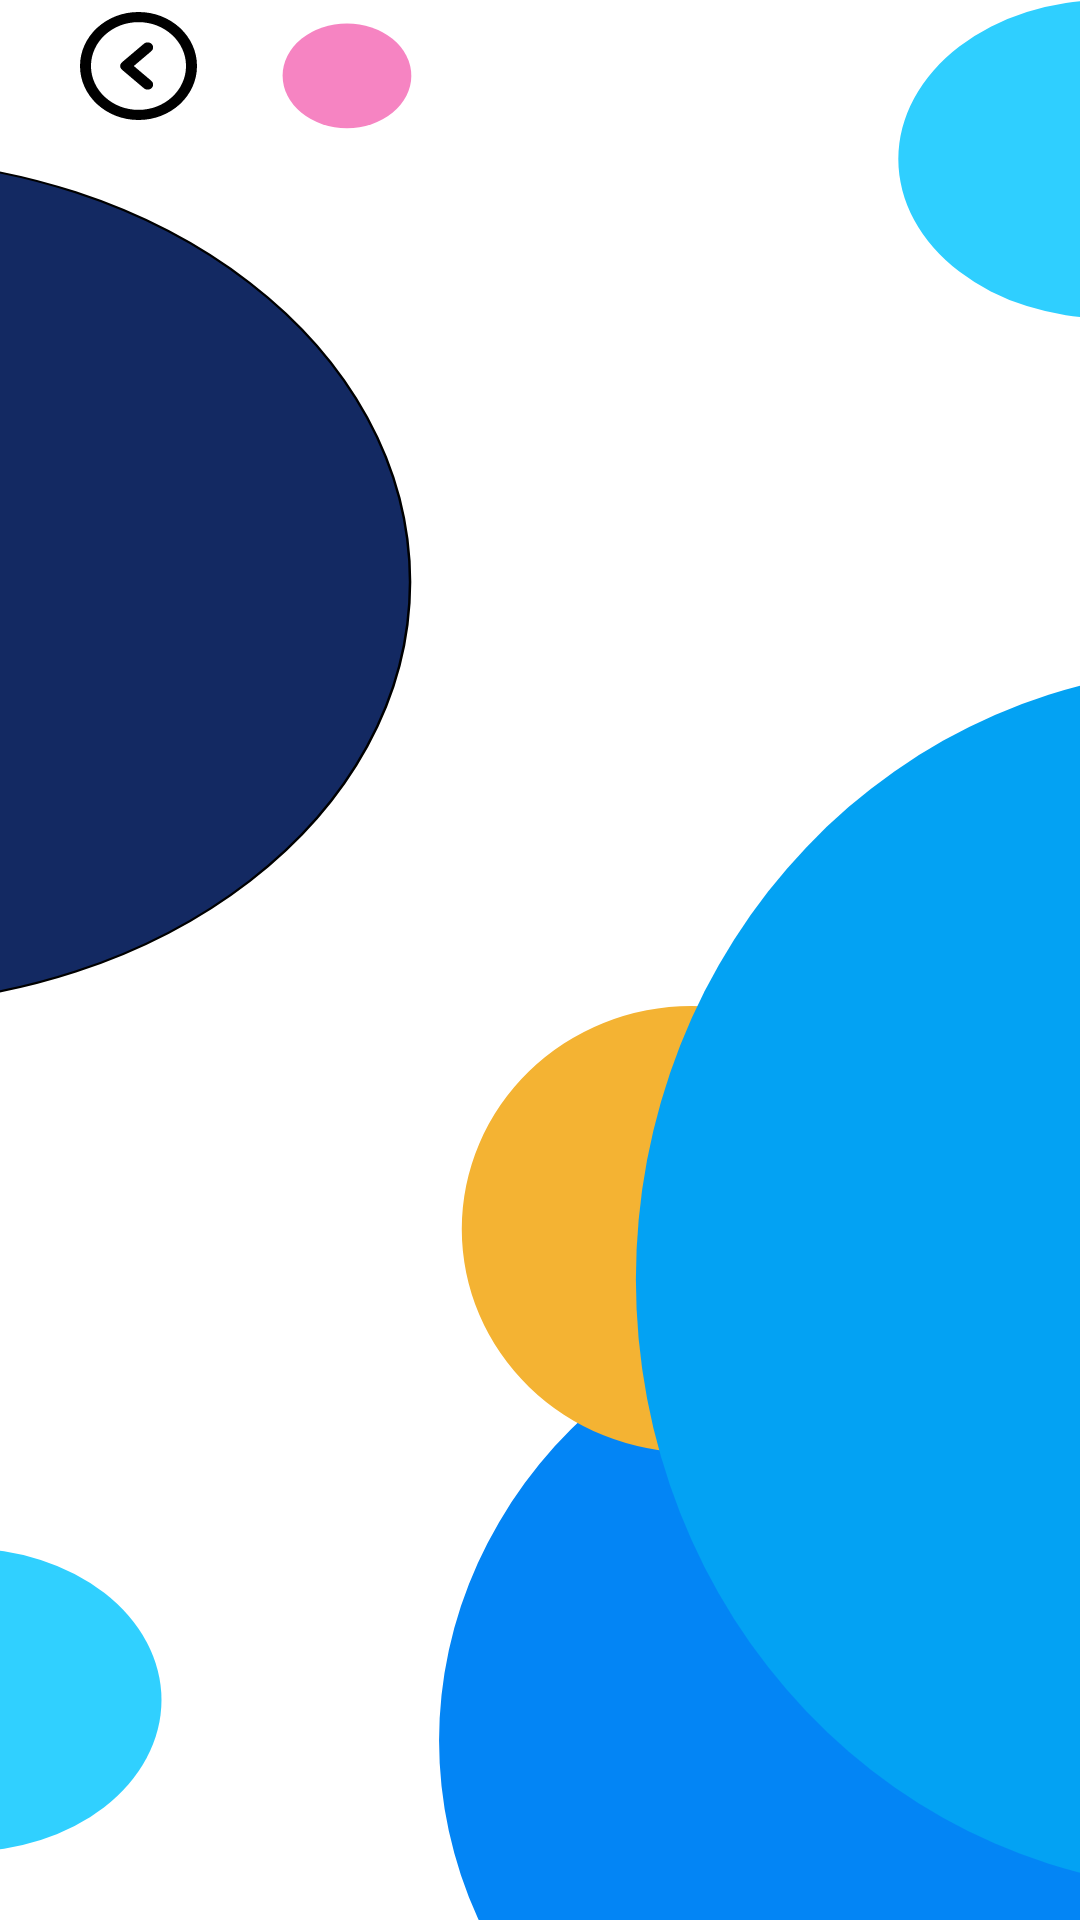

Named icons in this screenshot (1080w x 1920h) and their bounding boxes, rect(x1, y1, x2, y2):
atras: rect(80, 12, 197, 120)
